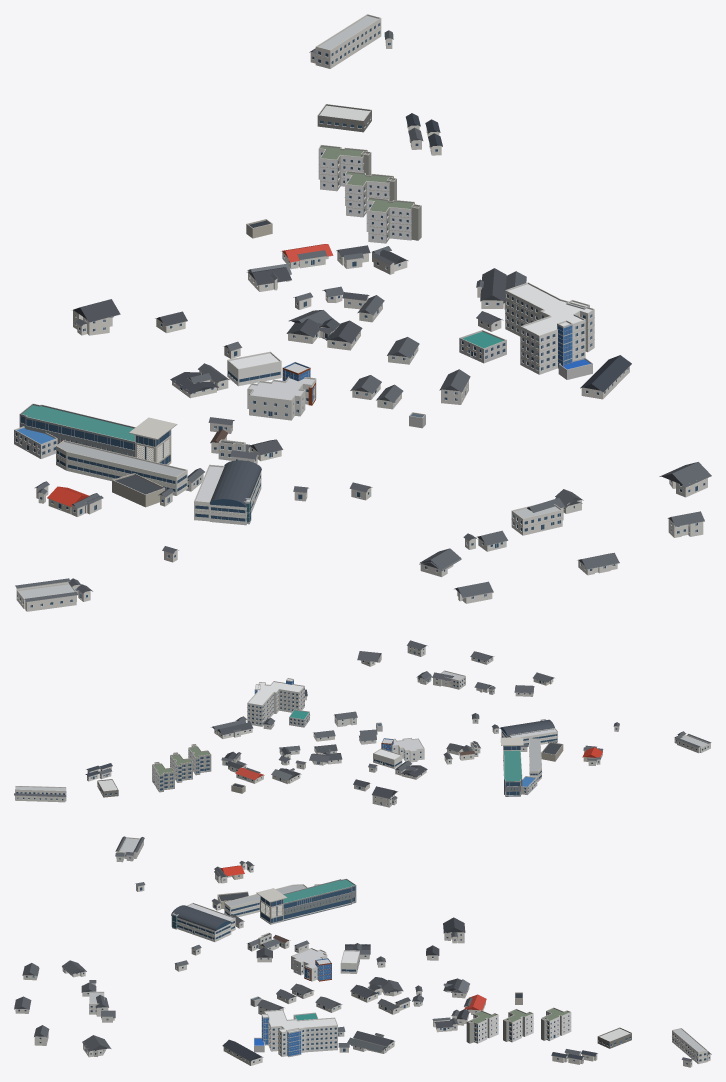
The model's file is buildings.glb.
The picture shows the model from 3 angles, top to bottom: view 1: azimuth 30°, elevation 25°; view 2: azimuth 150°, elevation 25°; view 3: azimuth 270°, elevation 25°; orthographic projection. The views are drawn at different scales.
Visible parts, largest first — view 1: girls_dorm, main_east, main_west, taecho, remnant, vw56, mideum, sarang, part_main_east_3, somang, gym, se_long (+9 smaller); view 2: girls_dorm, main_east, remnant, taecho, sarang, mideum, main_west, somang, amen, gym, vw56, vw43 (+9 smaller); view 3: girls_dorm, main_east, taecho, main_west, part_main_east_3, remnant, vw56, sarang, somang, mideum, se_long, kinder (+5 smaller).
Boxes of the visible parts, box(x1,y1,x2,y2) form: girls_dorm: box(505, 282, 594, 374); main_east: box(19, 403, 135, 456); main_west: box(56, 440, 187, 495); taecho: box(209, 460, 261, 525); remnant: box(247, 376, 316, 420); vw56: box(315, 14, 381, 68); mideum: box(366, 197, 414, 243); sarang: box(318, 145, 367, 191); part_main_east_3: box(129, 417, 177, 464); somang: box(344, 171, 393, 217); gym: box(227, 351, 281, 386); se_long: box(580, 355, 631, 399); girls_dorm: box(247, 681, 304, 726); main_east: box(503, 750, 522, 796); remnant: box(392, 737, 424, 762); taecho: box(500, 719, 554, 737); sarang: box(152, 763, 174, 792); mideum: box(188, 746, 211, 775); main_west: box(529, 738, 542, 781); somang: box(170, 754, 192, 782); amen: box(509, 728, 557, 746); gym: box(373, 748, 402, 768); vw56: box(15, 786, 66, 801); vw43: box(14, 793, 66, 802); girls_dorm: box(264, 1009, 337, 1056); main_east: box(277, 878, 356, 920); taecho: box(171, 905, 231, 941); main_west: box(224, 884, 307, 917); part_main_east_3: box(256, 888, 287, 924); remnant: box(291, 948, 327, 981); vw56: box(672, 1028, 707, 1063); sarang: box(542, 1007, 571, 1040); somang: box(505, 1009, 533, 1042); mideum: box(471, 1010, 498, 1043); se_long: box(222, 1039, 263, 1065); kinder: box(597, 1027, 631, 1048).
Size of the model in its own units: 385 by 40.98 by 450.
